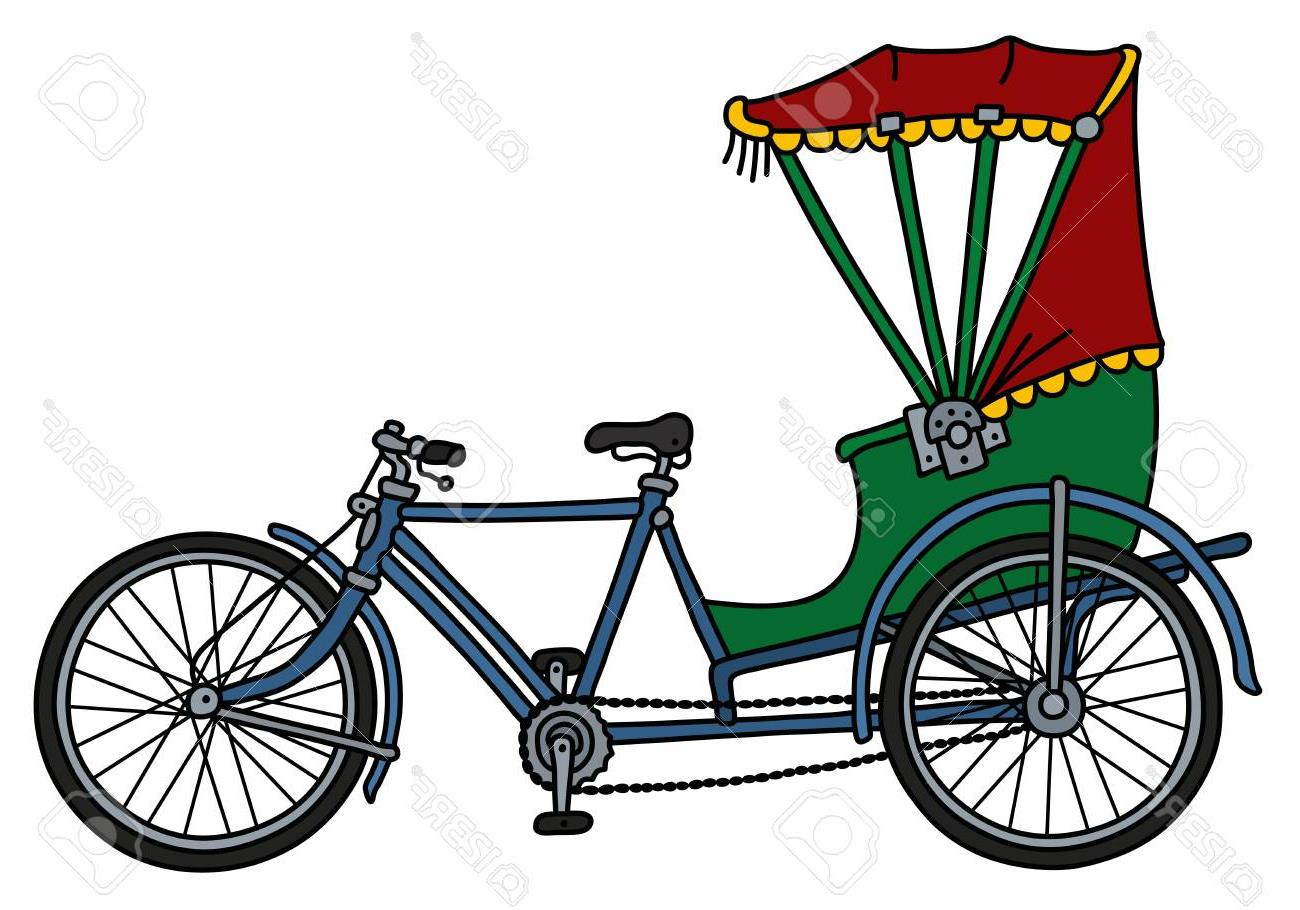Rickshaw: (53, 24, 1270, 865)
